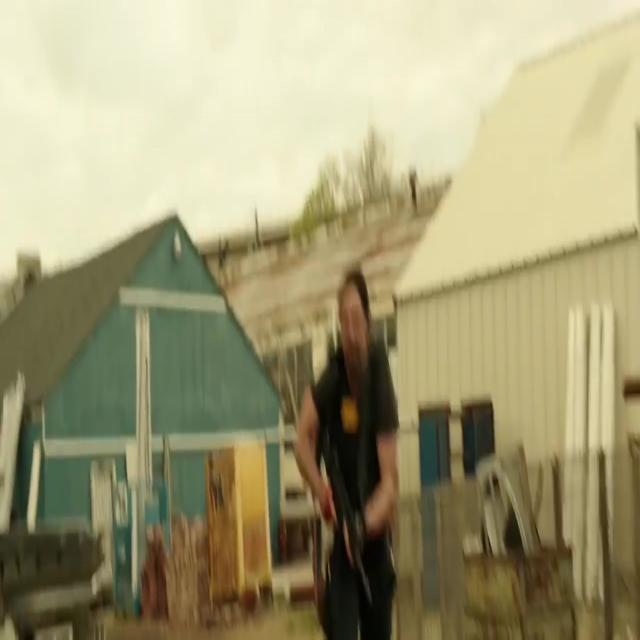Weapon: (309, 442, 380, 620)
